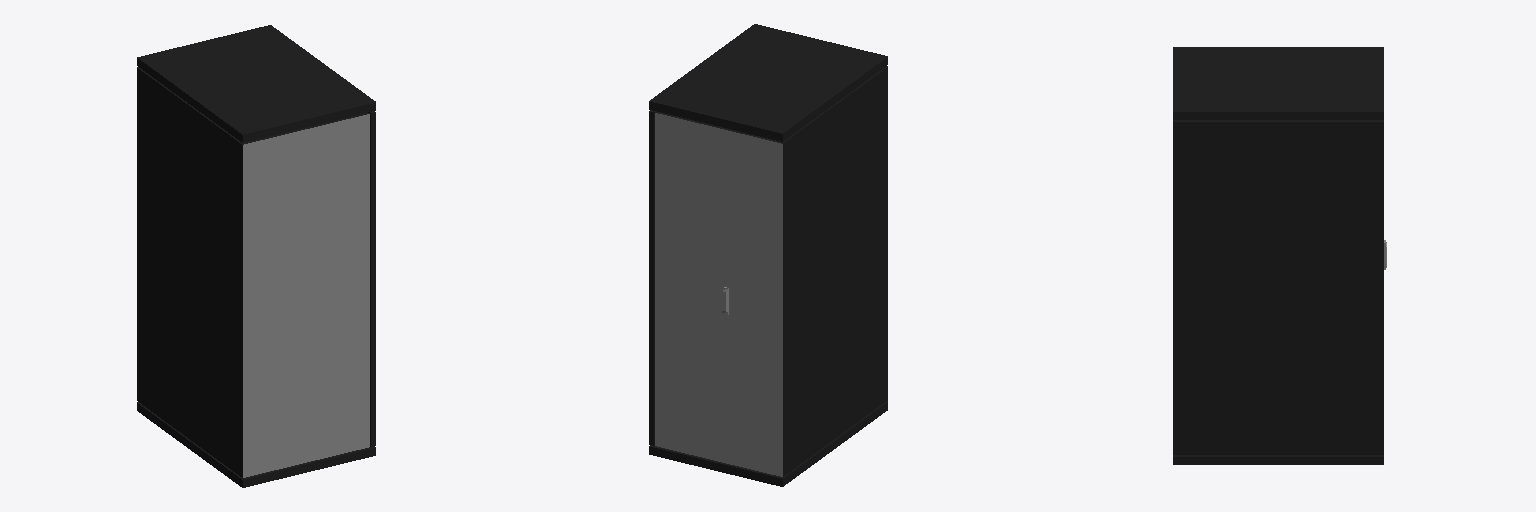
3 renders of one model, left to right at view 1: azimuth 30°, elevation 25°; view 2: azimuth 150°, elevation 25°; view 3: azimuth 270°, elevation 25°, orthographic.
Visible parts, largest first — view 1: Box283, Box284, Box285, Box286; view 2: Box283, Box284, Box285, Box286; view 3: Box286, Box284, Box285.
Boxes of the visible parts, <box> form: Box283: <box>137,67,369,477</box>; Box284: <box>137,25,375,142</box>; Box285: <box>137,402,375,487</box>; Box286: <box>368,111,375,446</box>; Box283: <box>655,66,887,476</box>; Box284: <box>649,24,887,141</box>; Box285: <box>649,401,887,486</box>; Box286: <box>649,110,656,445</box>; Box286: <box>1173,120,1383,454</box>; Box284: <box>1173,47,1383,119</box>; Box285: <box>1173,455,1383,464</box>.
Bounding box in the file's own units: 84 × 212 × 116.